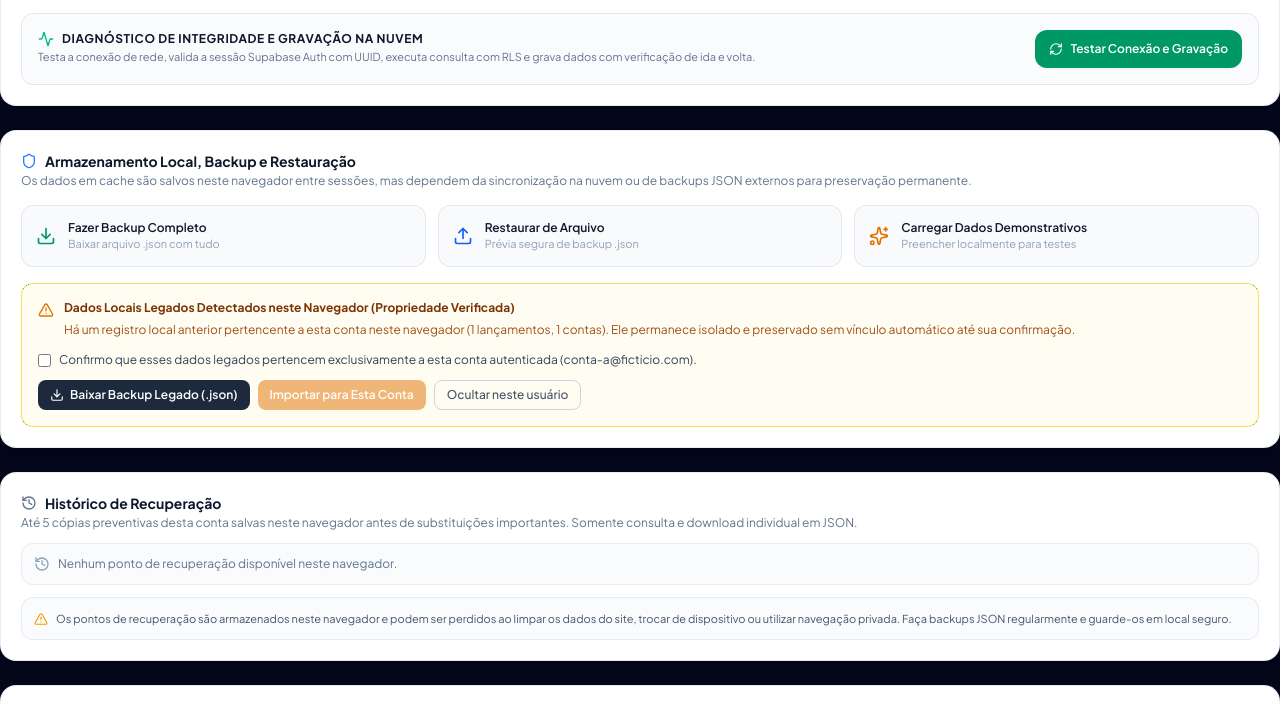
it: P2.2B: Conclusão da Integração dos 7 Pontos de Snapshot (Feature Flag Desativada por Padrão) › 3. Preserva confirmações de reset, importação legada e dados demonstrativos na SettingsView com chamadas assíncronas
Later steps or results of the test are not shown.
(page scrolled)
expect the button "Importar para Esta Conta" is disabled: met, box [258, 380, 426, 410]
Click the checkbox at (44, 360), box [38, 354, 51, 366]
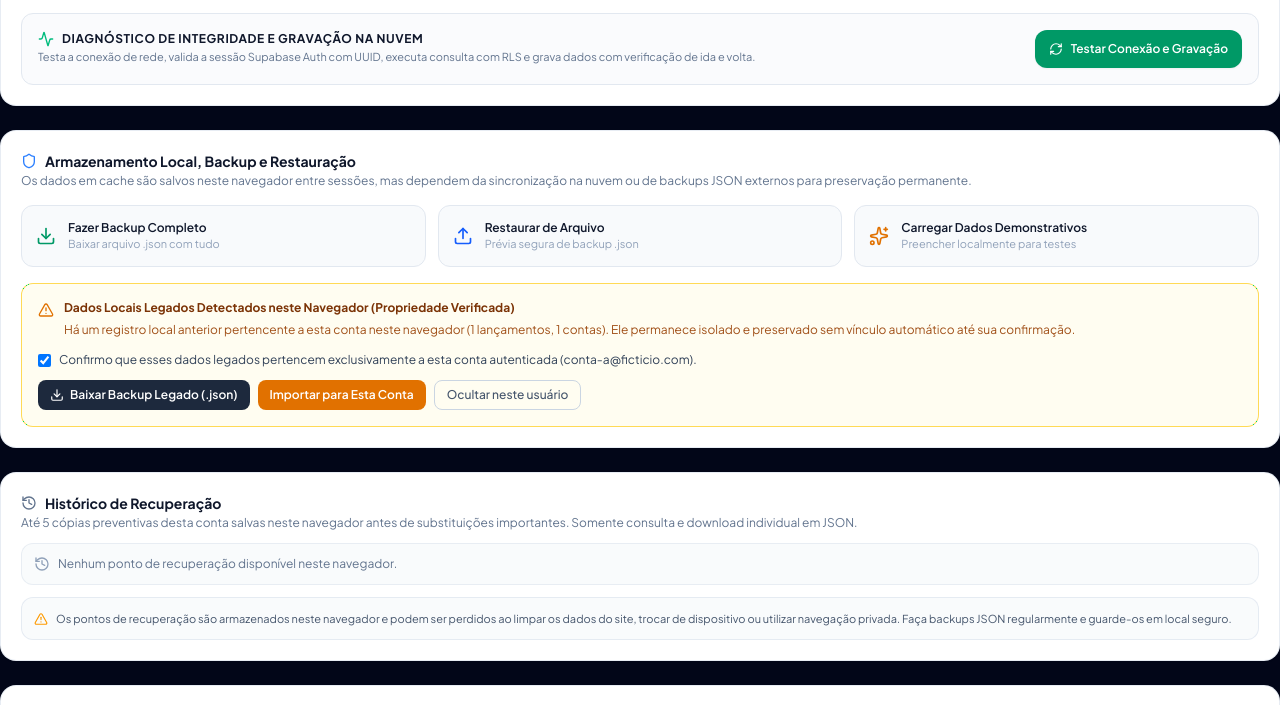
expect the button "Importar para Esta Conta" is enabled: met
Click the button "Importar para Esta Conta" at (342, 394), box [258, 380, 426, 410]
(page scrolled)
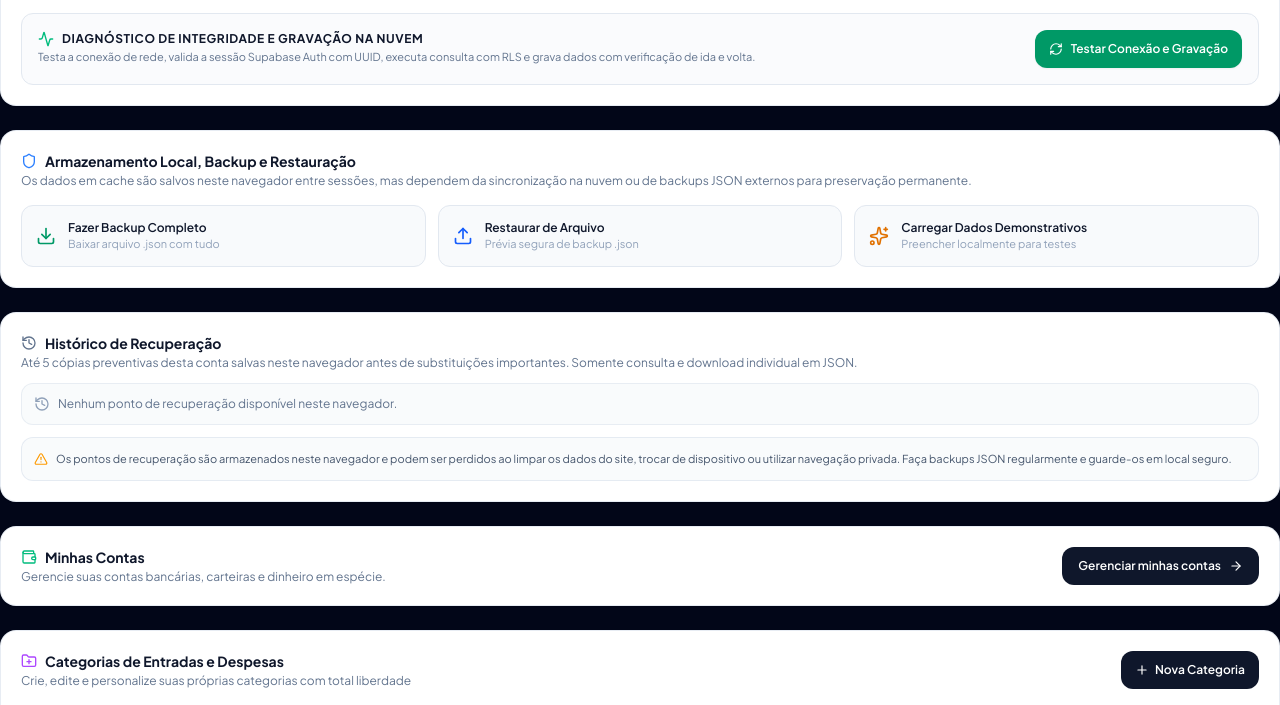
Click the button that starts with "Carregar Dados Demonstrativos" at (1057, 236), box [854, 204, 1259, 267]
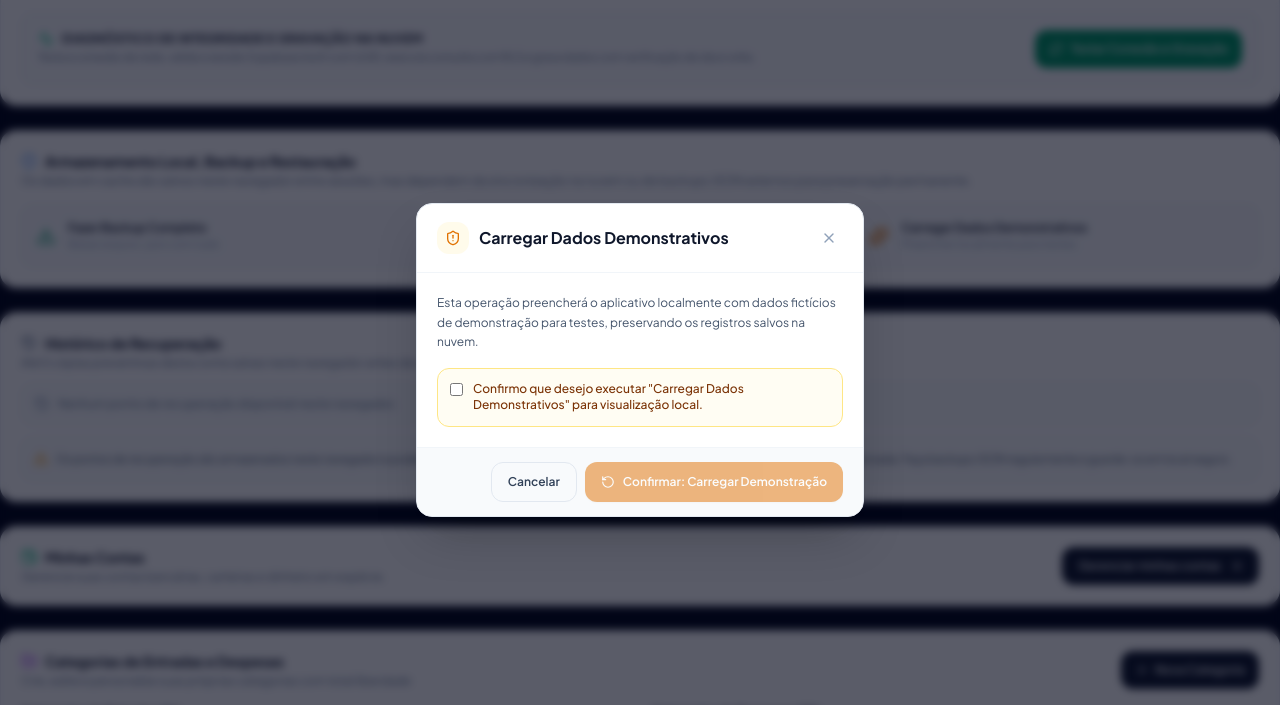
expect the text "Confirmo que desejo executar \"Carregar Dados Demonstrativos\"" is shown: met, box [473, 381, 744, 412]
expect the checkbox is shown: met
Click the checkbox at (456, 389), box [450, 383, 463, 396]
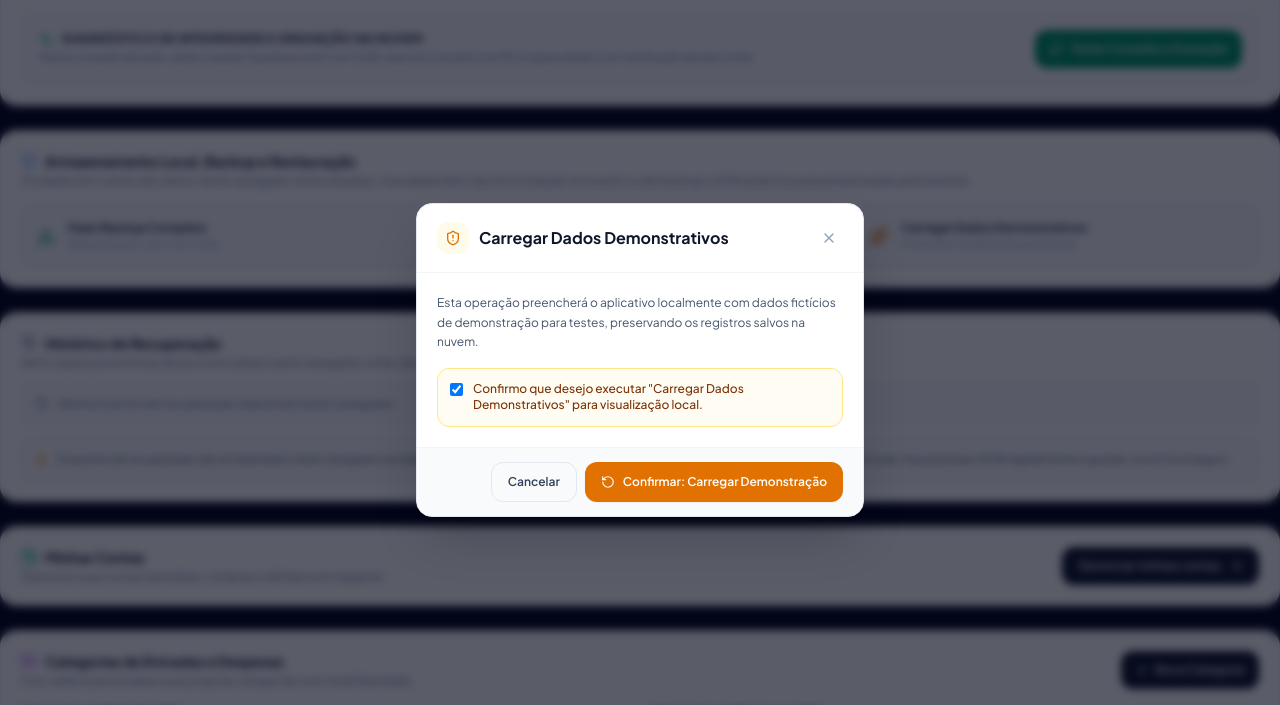
expect the button "Confirmar: Carregar Demonstração" is enabled: met, box [585, 462, 843, 502]
